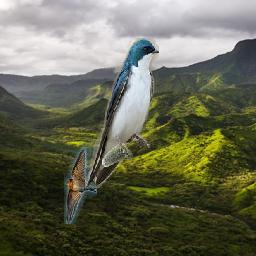Swallow: (85, 38, 159, 188), (65, 148, 98, 225)
